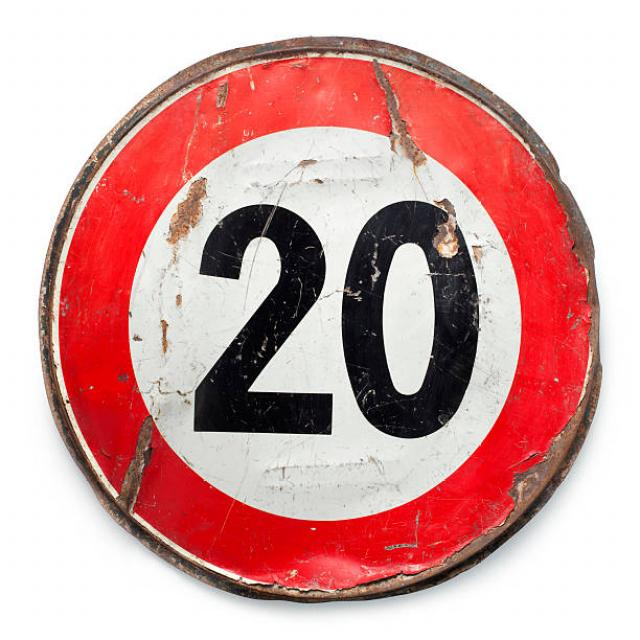speed_limit_20: (44, 46, 599, 592)
